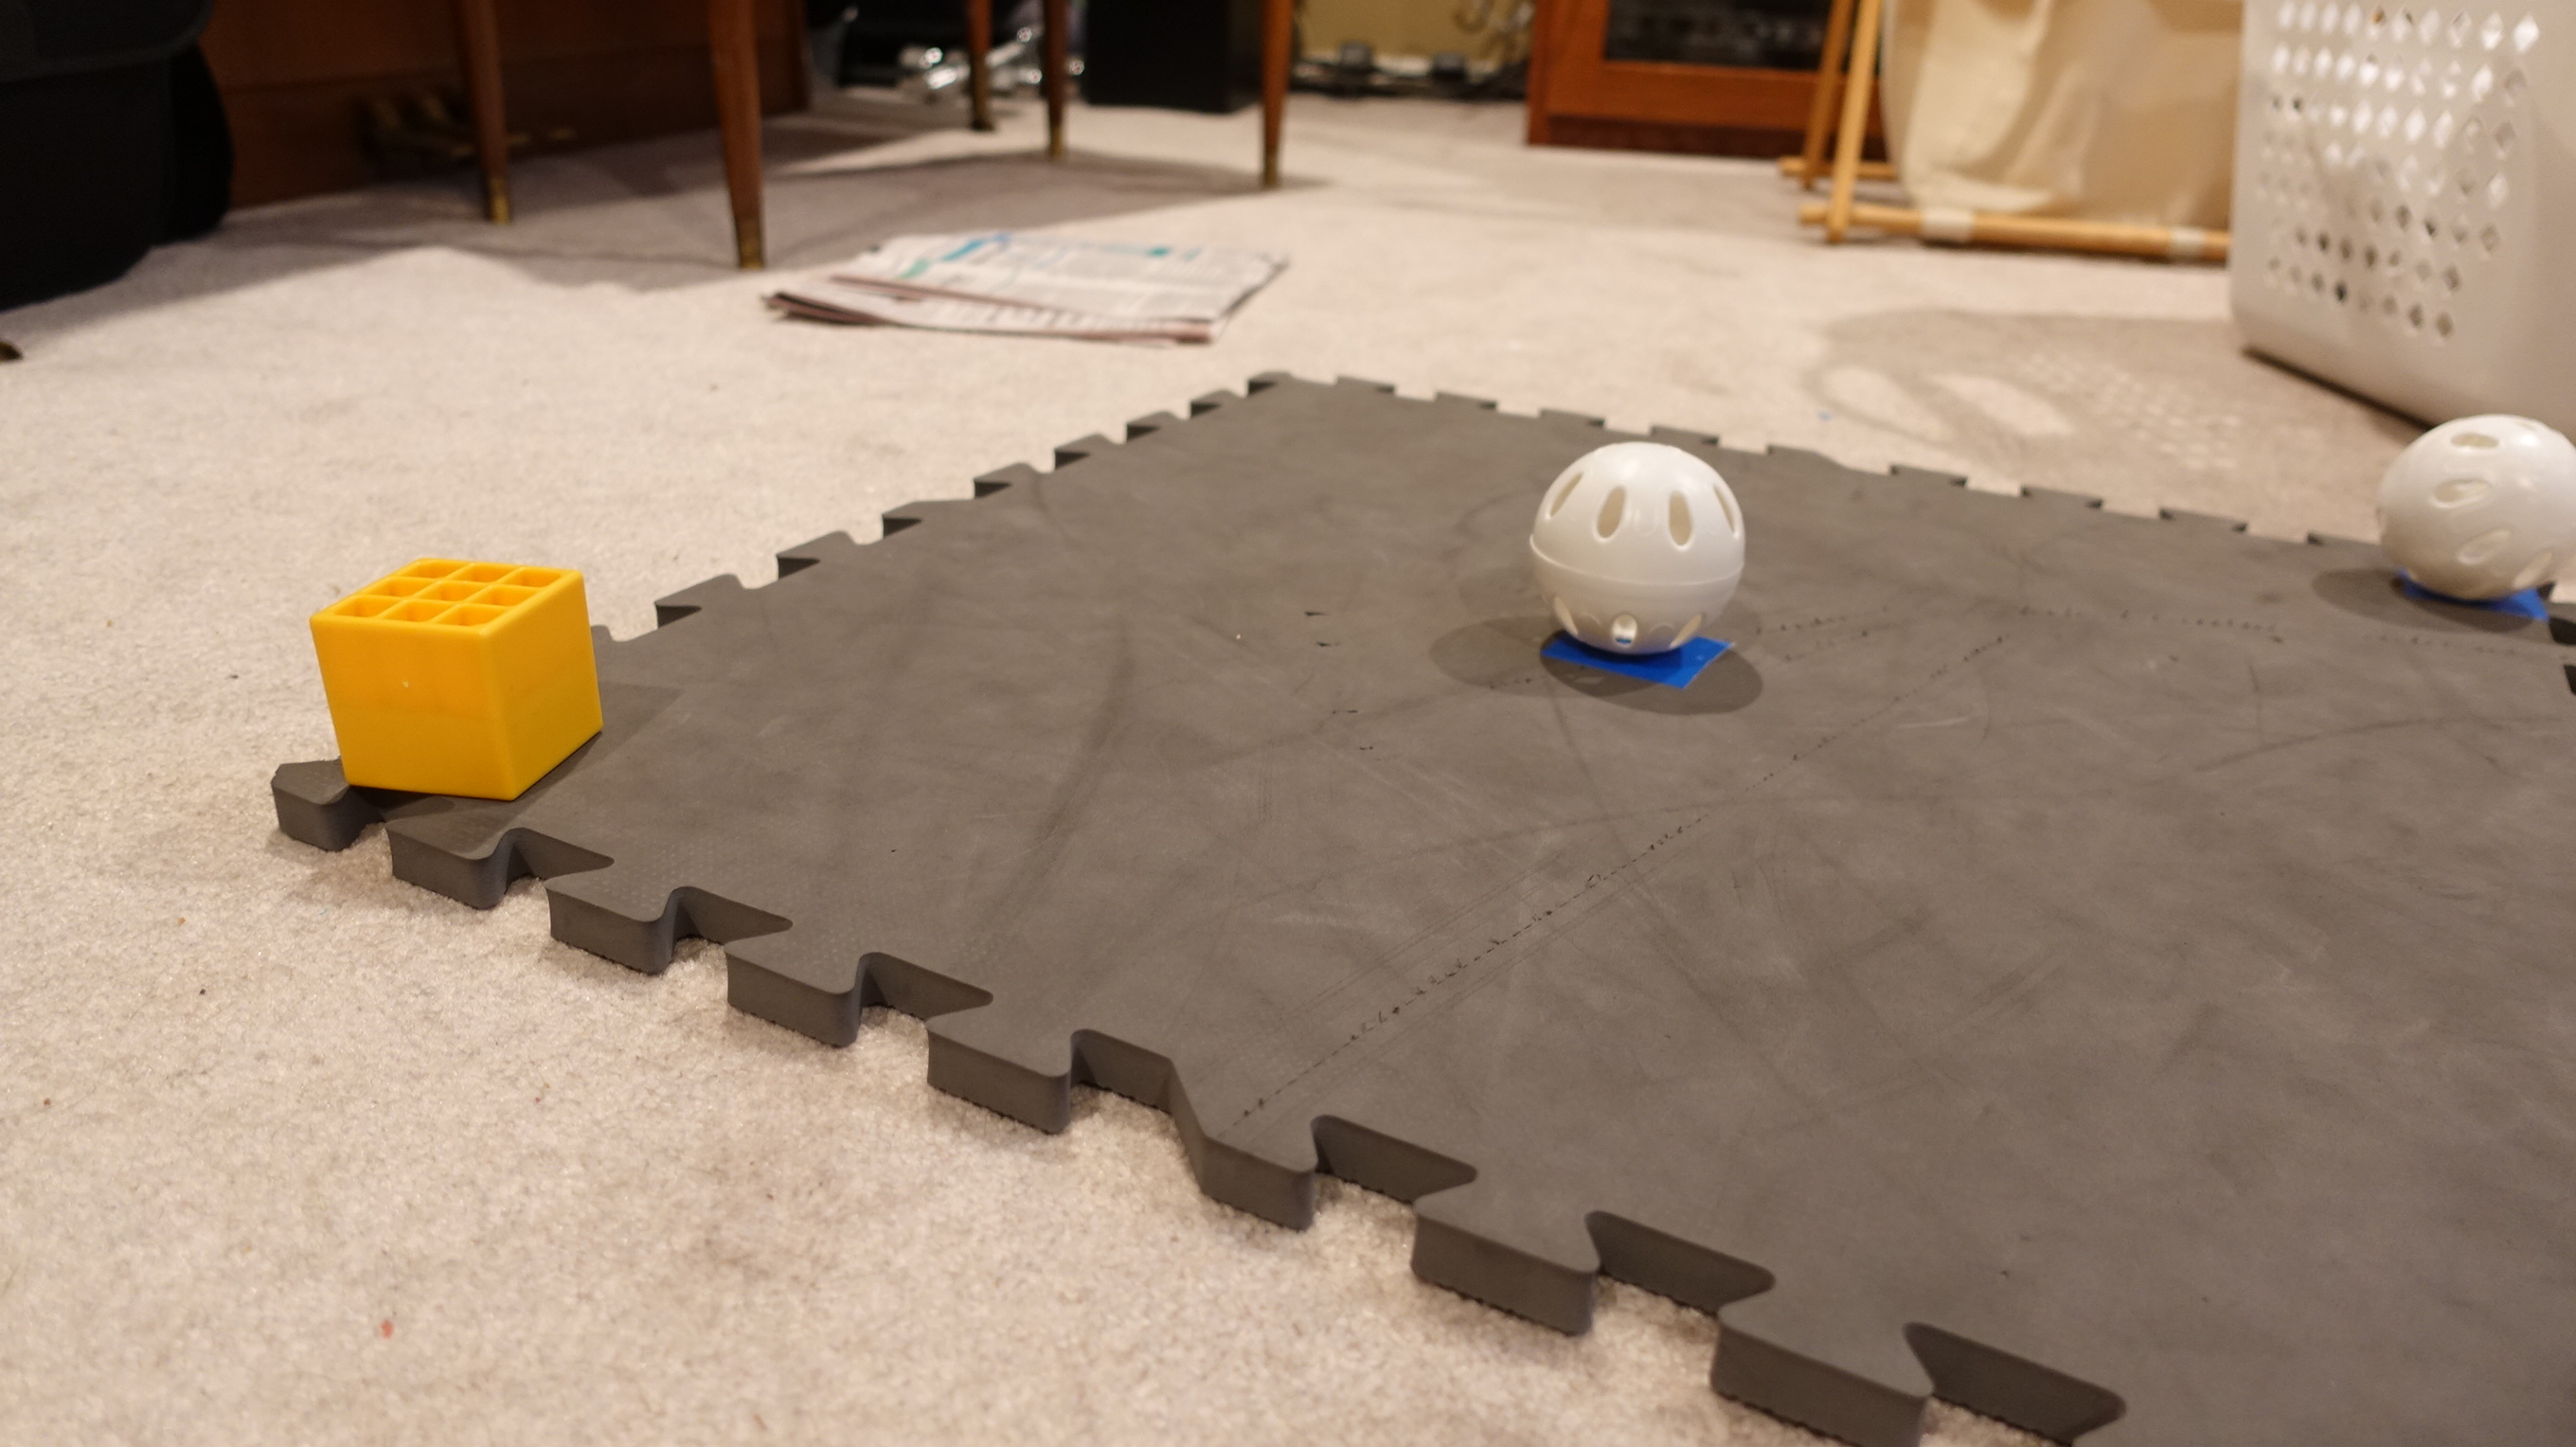gold: (292, 541, 621, 812)
silver: (1507, 433, 1762, 679), (2369, 391, 2576, 614)
